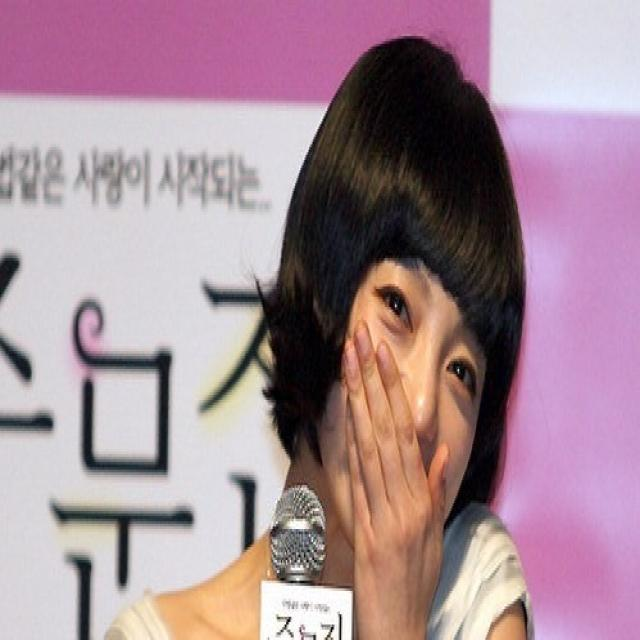nomask: (330, 242, 486, 573)
